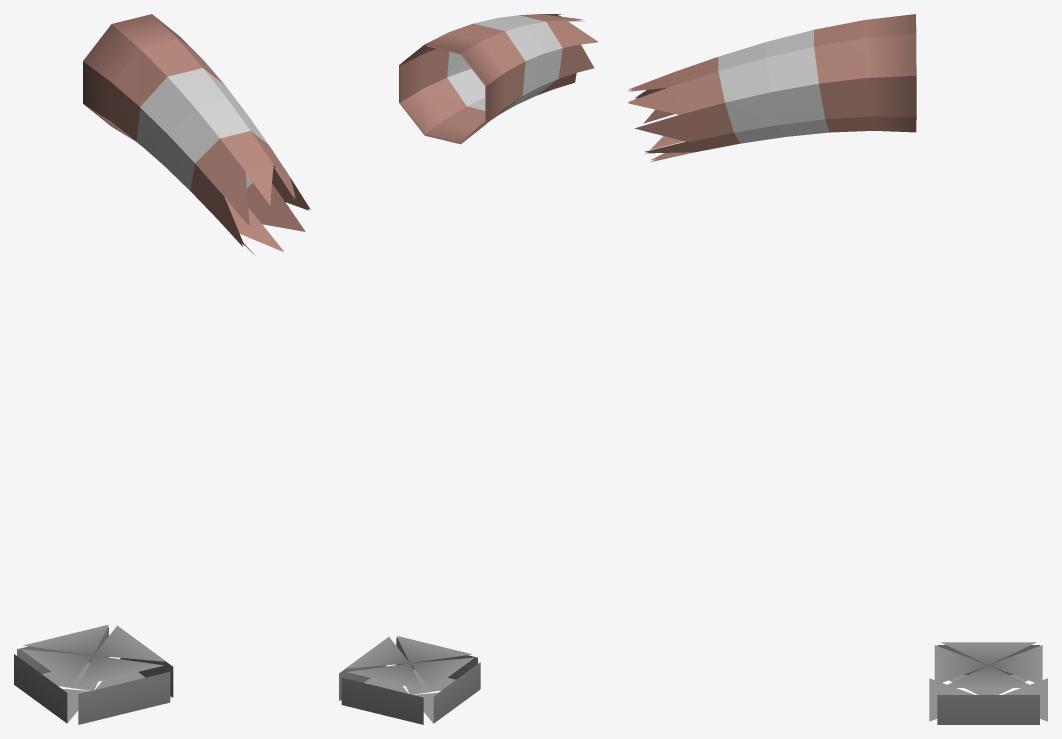
Rendered from windsock.lod.glb.
The picture shows the model from 3 angles, left to right: view 1: azimuth 30°, elevation 25°; view 2: azimuth 150°, elevation 25°; view 3: azimuth 270°, elevation 25°; orthographic projection. The views are drawn at different scales.
Visible parts, largest first — view 1: windsock.001; view 2: windsock.001; view 3: windsock.001.
Boxes of the visible parts, bbox=[...] form: windsock.001: bbox=[14, 14, 310, 724]; windsock.001: bbox=[339, 14, 598, 724]; windsock.001: bbox=[628, 14, 1047, 724].
Bounding box in the file's own units: 0.9 × 5.67 × 3.19.
